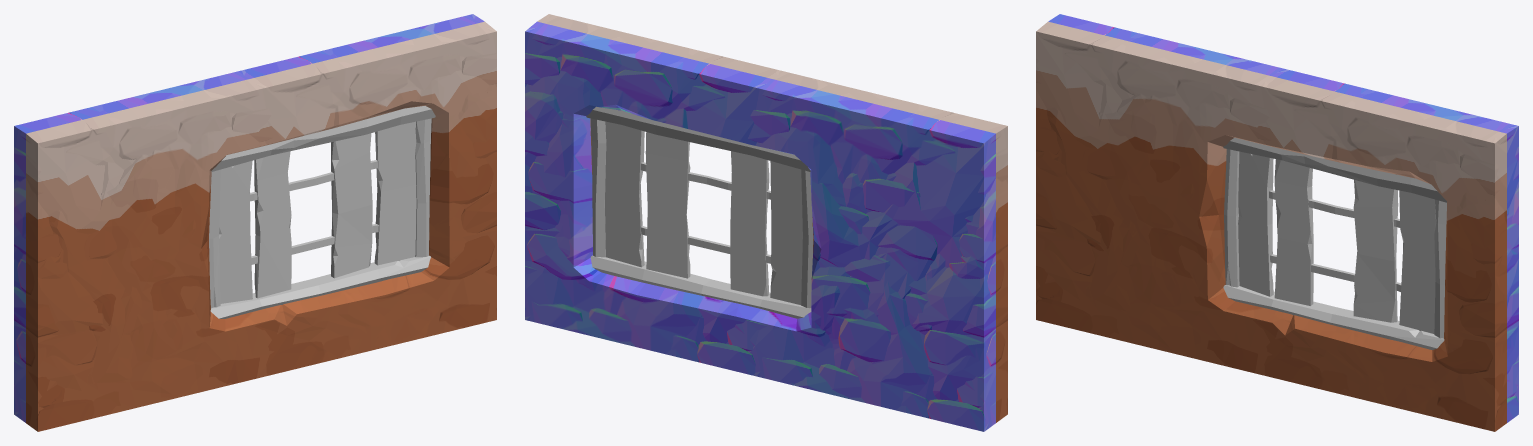
The model's file is SM_Bld_Wall_Window_Half_01.fbx.
The picture shows the model from 3 angles, left to right: view 1: azimuth 30°, elevation 25°; view 2: azimuth 150°, elevation 25°; view 3: azimuth 330°, elevation 25°; orthographic projection.
Visible parts, largest first — view 1: SM_Bld_Wall_Window_Half_01; view 2: SM_Bld_Wall_Window_Half_01; view 3: SM_Bld_Wall_Window_Half_01.
Part boxes in pixels (x1=…): SM_Bld_Wall_Window_Half_01: x1=14, y1=14, x2=496, y2=431; SM_Bld_Wall_Window_Half_01: x1=525, y1=14, x2=1007, y2=431; SM_Bld_Wall_Window_Half_01: x1=1036, y1=14, x2=1518, y2=431.
Size of the model in its own units: 250 by 151 by 22.5.
